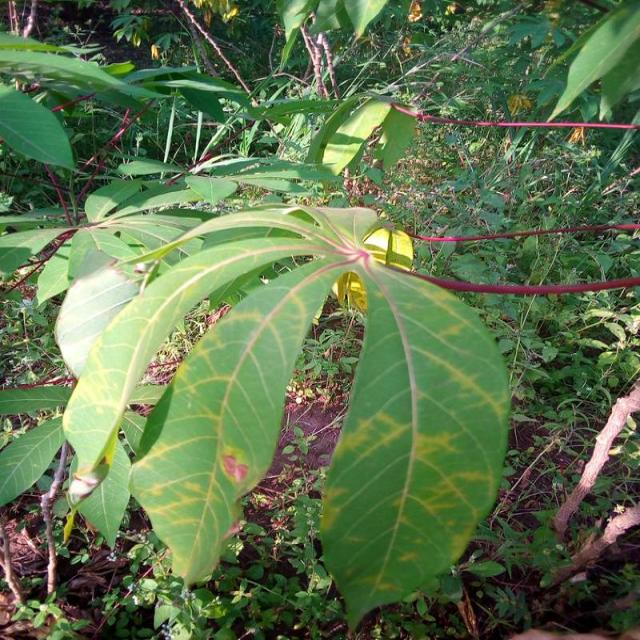cassava leaf: (58, 200, 511, 630), (318, 256, 512, 633)
